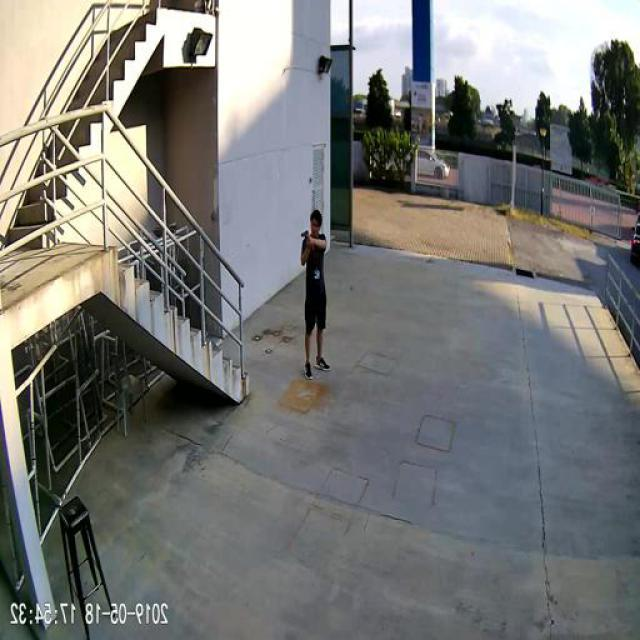Gun: (302, 226, 312, 238)
